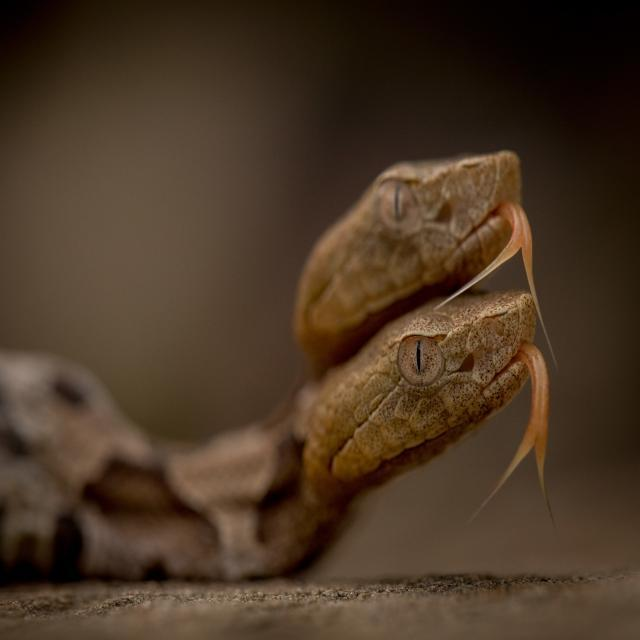Snake: (0, 122, 568, 640)
